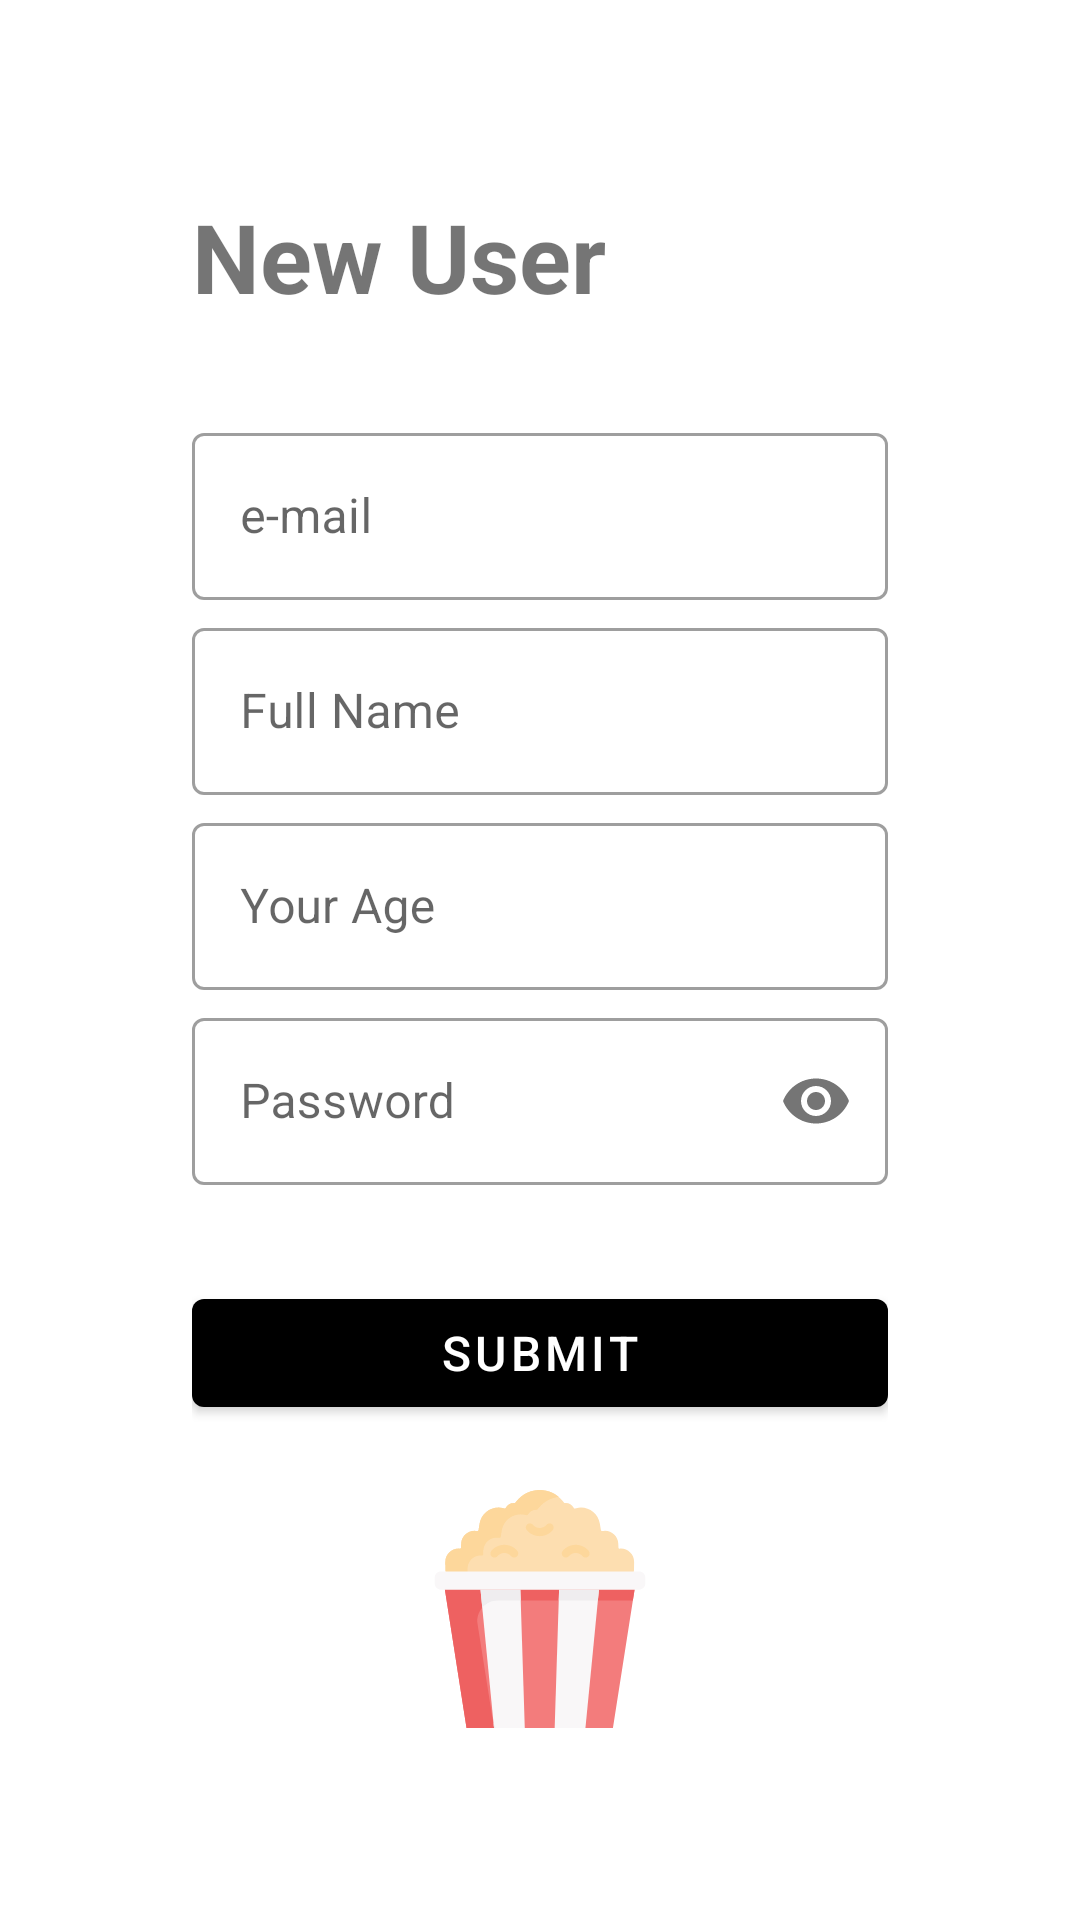

Screen size 1080×1920. Icon name, then its box in pixels as (x1, y1, x2, y2):
popcorn: (445, 1490, 635, 1728)
